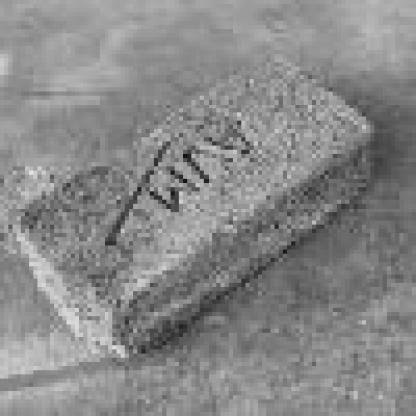brick: (6, 52, 376, 366)
